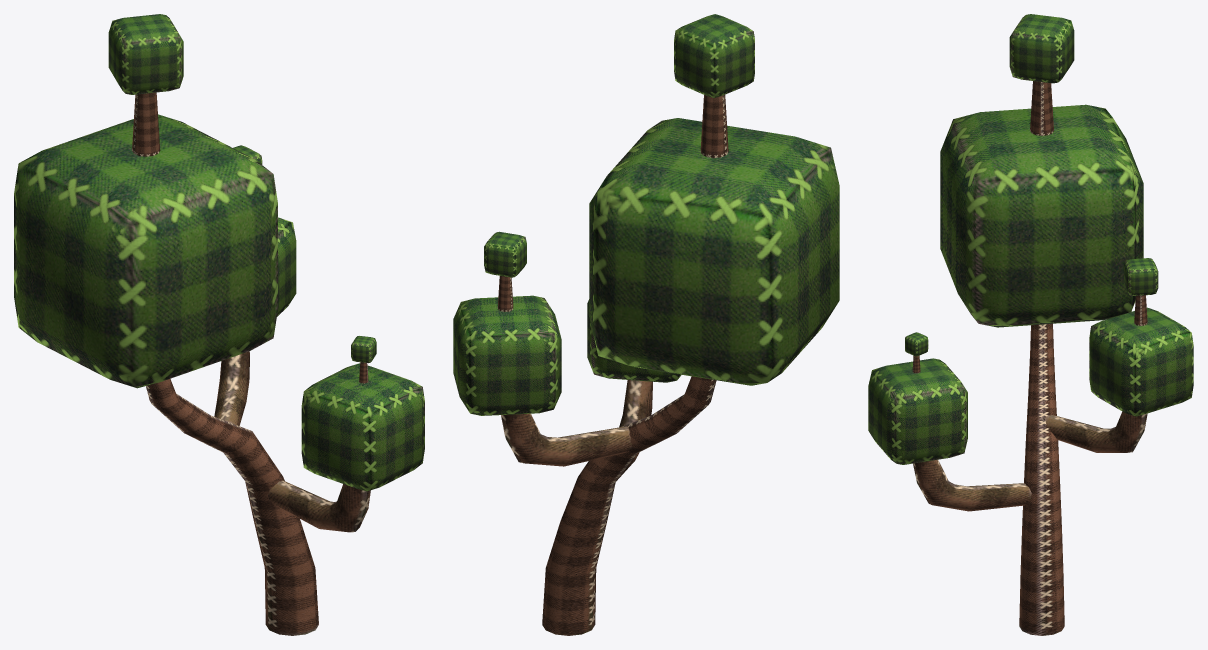
The model's file is lpb_cs_tree22.fbx.
3 views of the same model, side by side, from view 1: azimuth 30°, elevation 25°; view 2: azimuth 150°, elevation 25°; view 3: azimuth 270°, elevation 25° (orthographic). The views are drawn at different scales.
Visible parts, largest first — view 1: lpb_cs_tree22; view 2: lpb_cs_tree22; view 3: lpb_cs_tree22.
Part boxes in pixels (box(x1,y1,x2,y2)): lpb_cs_tree22: box(14, 14, 424, 635); lpb_cs_tree22: box(453, 14, 839, 635); lpb_cs_tree22: box(868, 14, 1193, 635).
Bounding box in the file's own units: 126 × 250 × 136.
